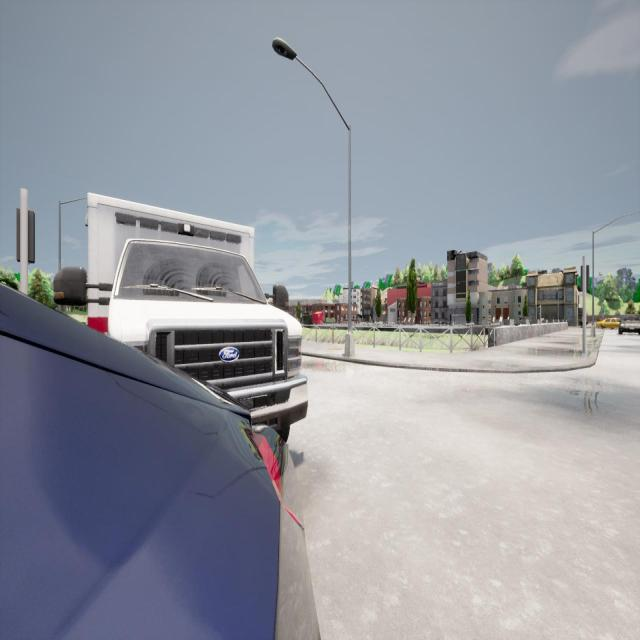Vehicle: (0, 285, 324, 640), (54, 192, 309, 444), (619, 314, 640, 334), (596, 317, 619, 330)
traffic_light: (16, 209, 36, 262), (580, 266, 589, 292)
